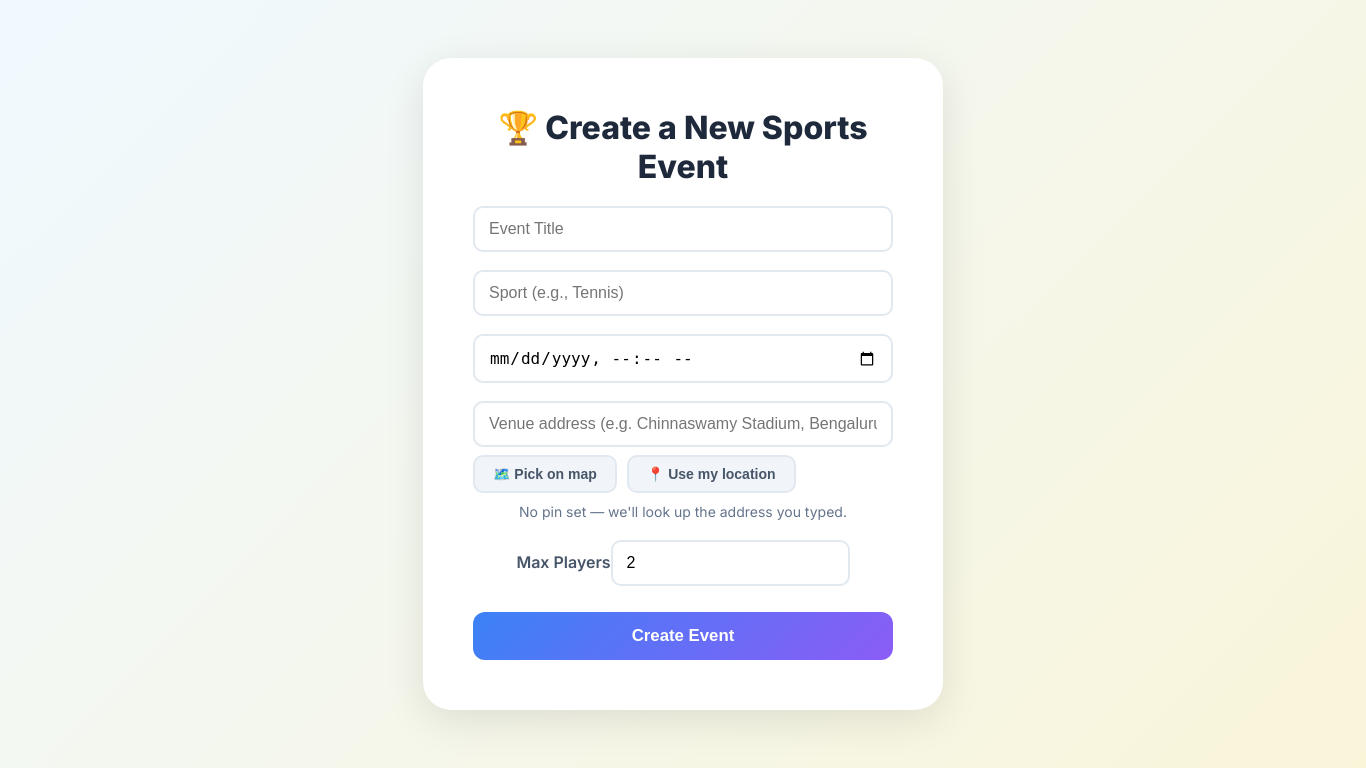
CreateEvent › failures › shows per-field validation messages, not the generic one
The image size is (1366, 768).
Step 1. Type "Sunday Football" into the field with placeholder "Event Title" → [683, 229], box [473, 206, 893, 252]
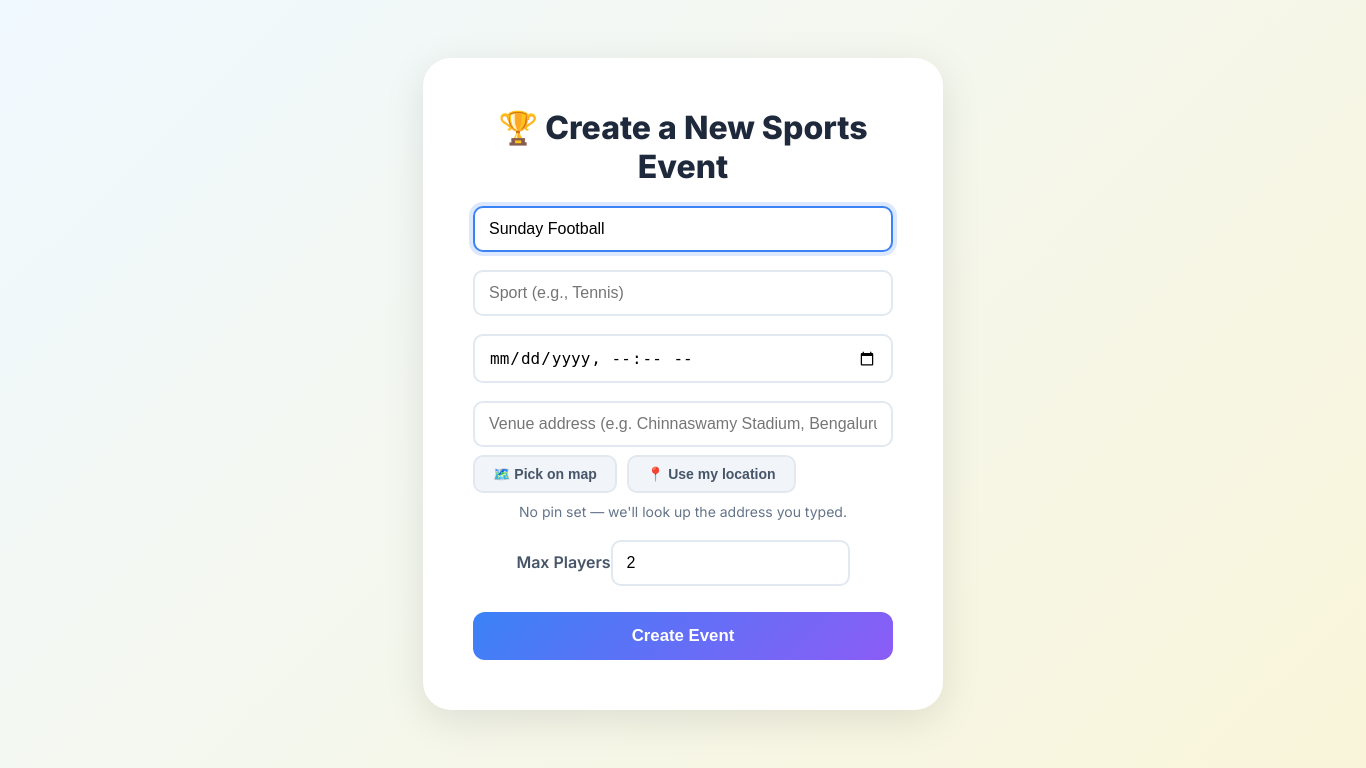
Step 2. Type "Football" into the field with placeholder "Sport (e.g., Tennis)" → [683, 293], box [473, 270, 893, 316]
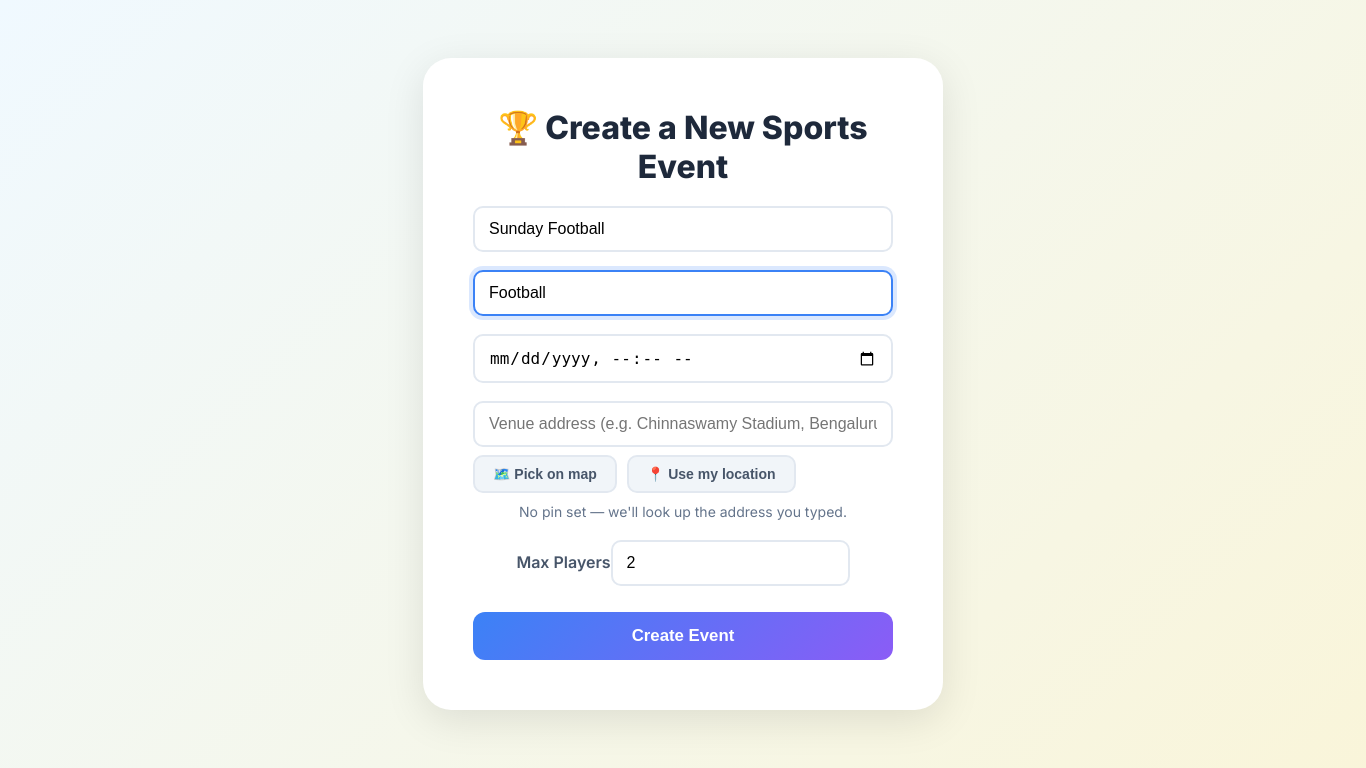
Step 3. Type "2027-09-15T18:30" into the 3rd field named "date" → [683, 358], box [473, 334, 893, 383]
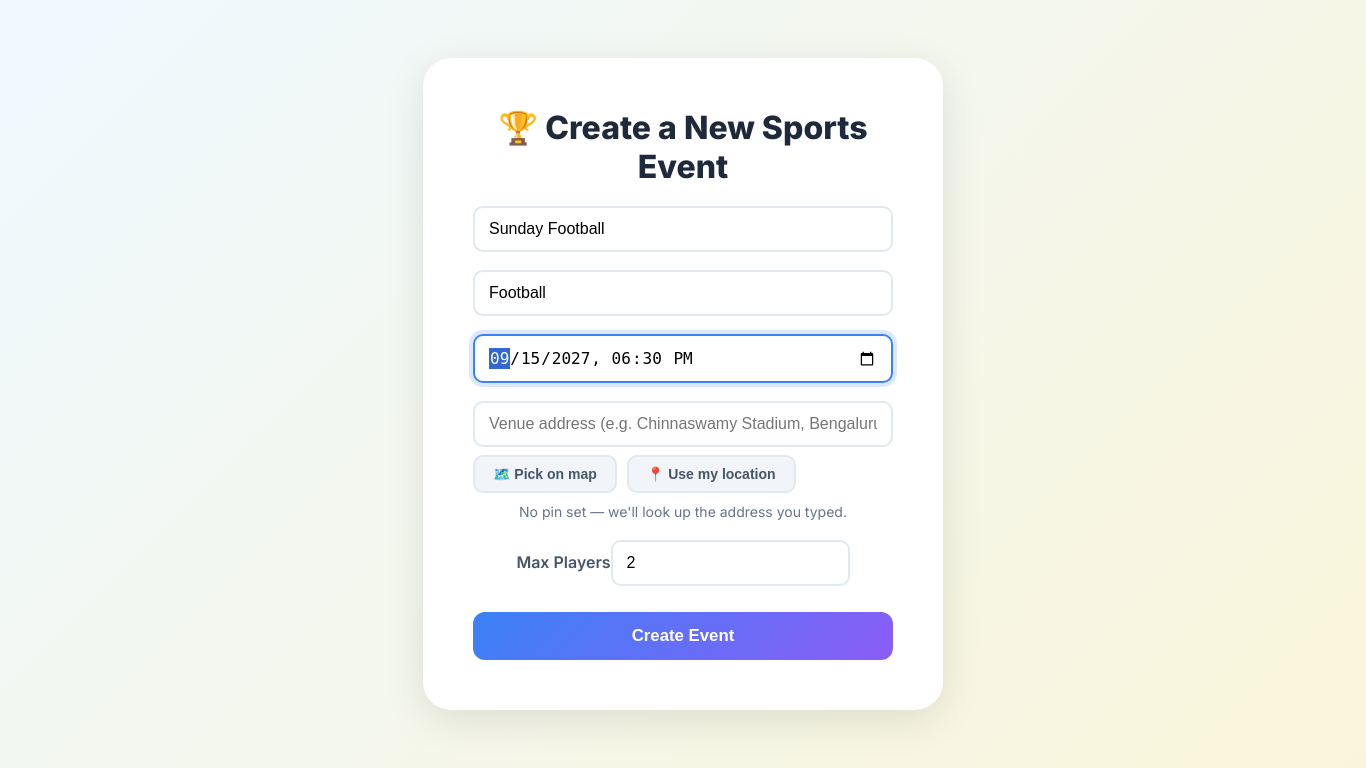
Step 4. Type "Koramangala Turf, Bengaluru" into the field with placeholder "Venue address (e.g. Chinnaswamy Stadium, Bengaluru)" → [683, 424], box [473, 401, 893, 447]
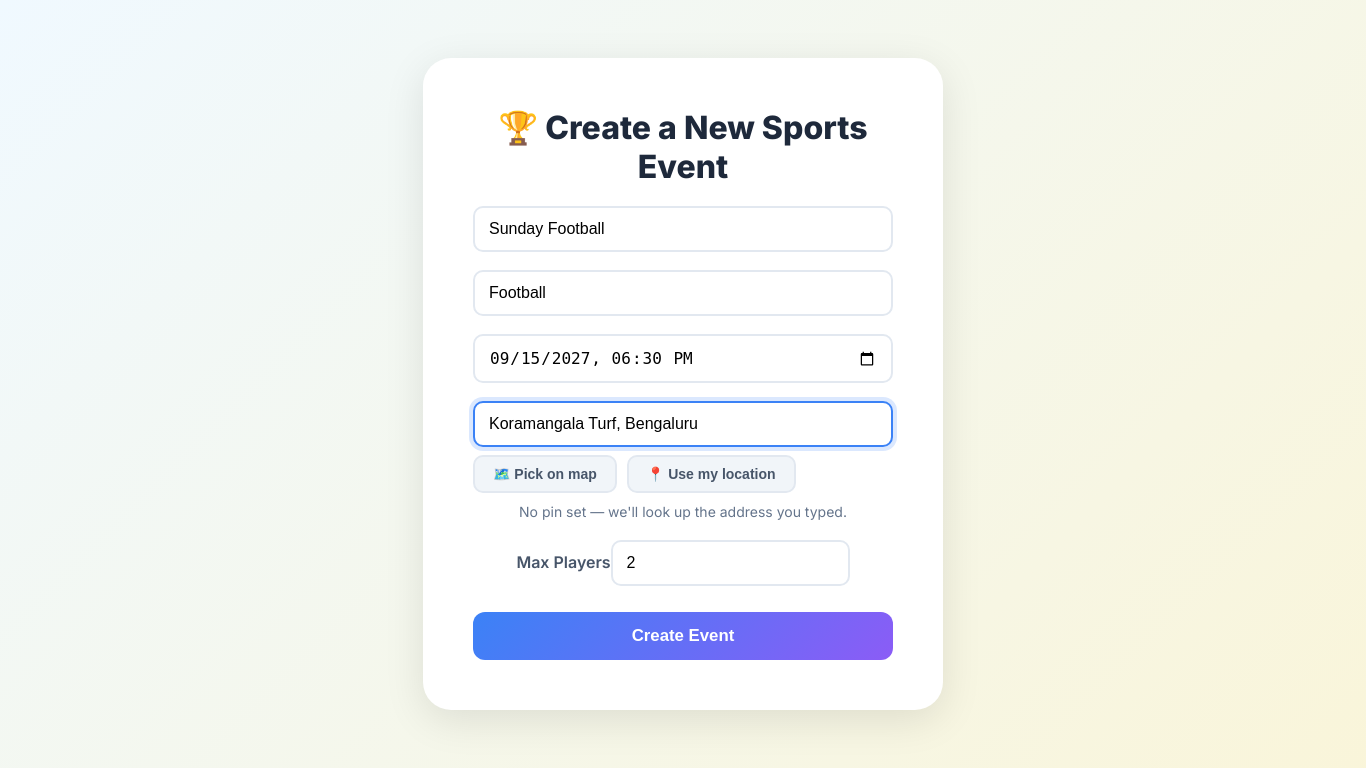
Step 5. Click the button "Create Event" → [683, 636], box [473, 612, 893, 660]
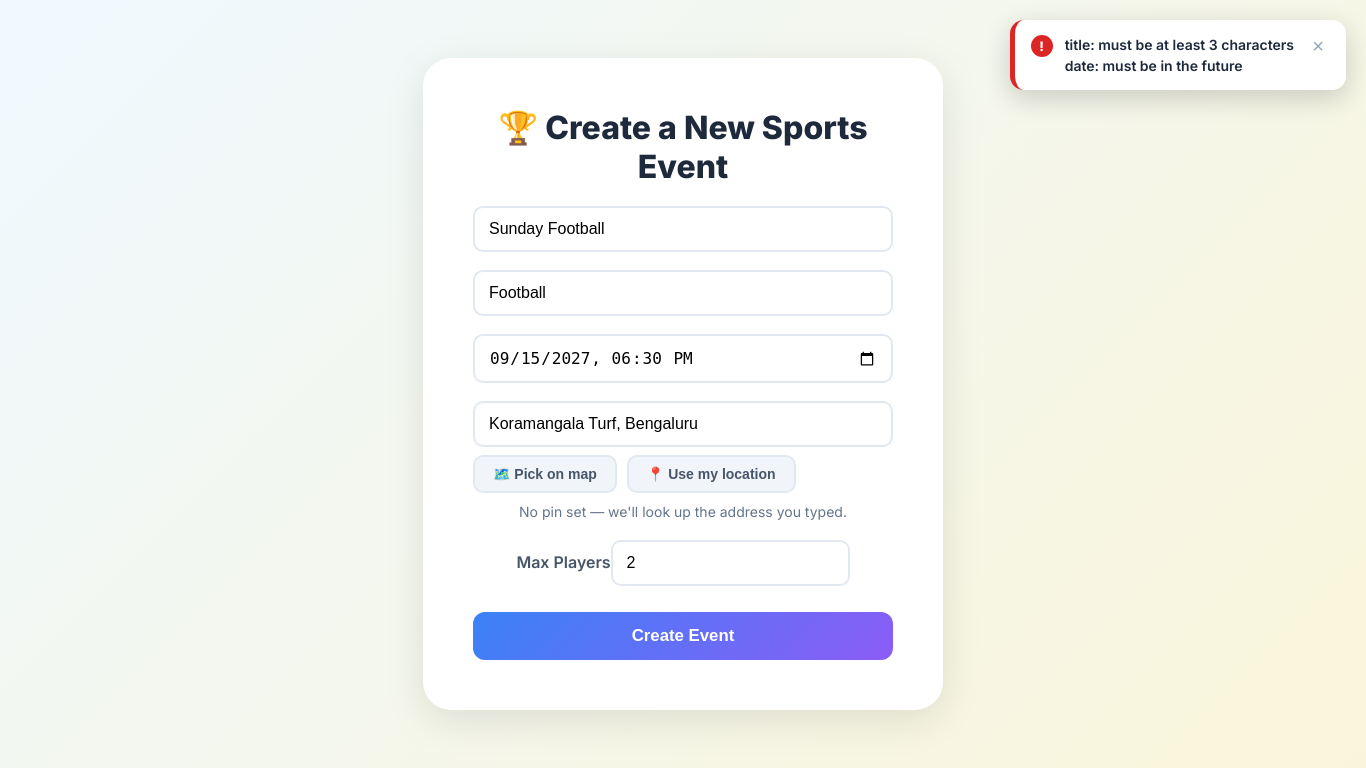
Check: the text "must be in the future" is shown, box [1065, 36, 1294, 74]
